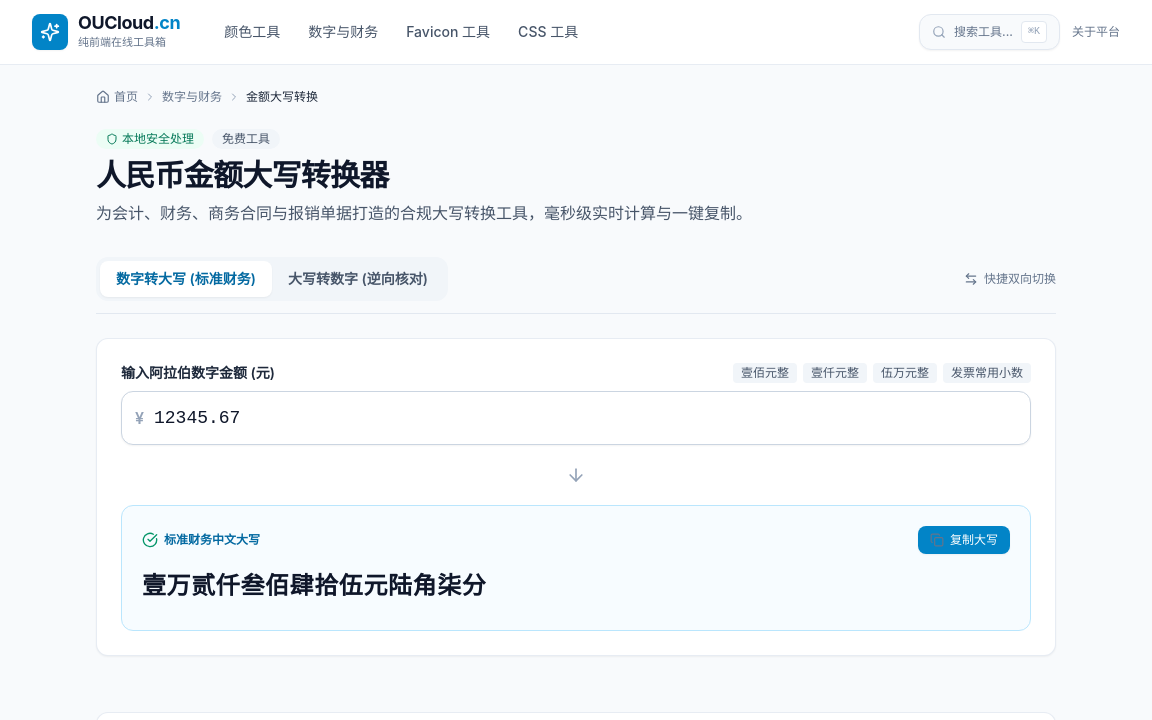
Test case: 全站路由与端到端交互 › 人民币金额工具支持切换至逆向转换并准确解析大写金额
Click the button "大写转数字 (逆向核对)" at (358, 279), box [272,261,444,297]
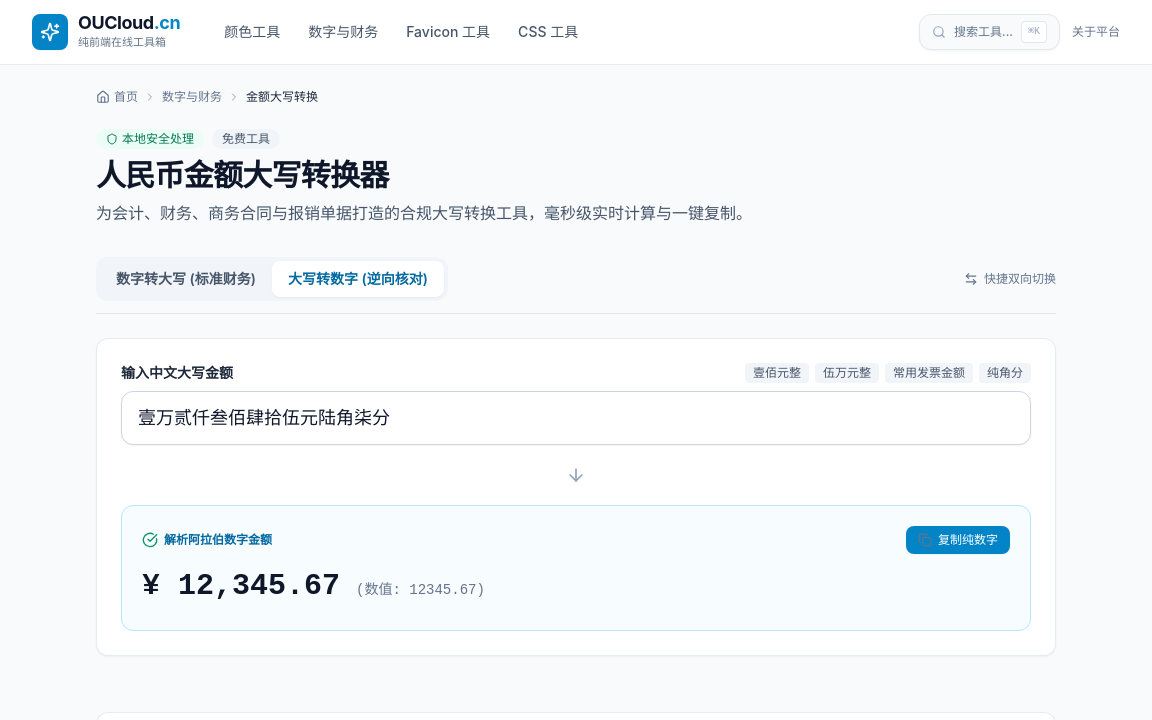
Replace the text in the field labelled "输入中文大写金额" with "伍万元整" at (576, 418), box [121,391,1031,445]
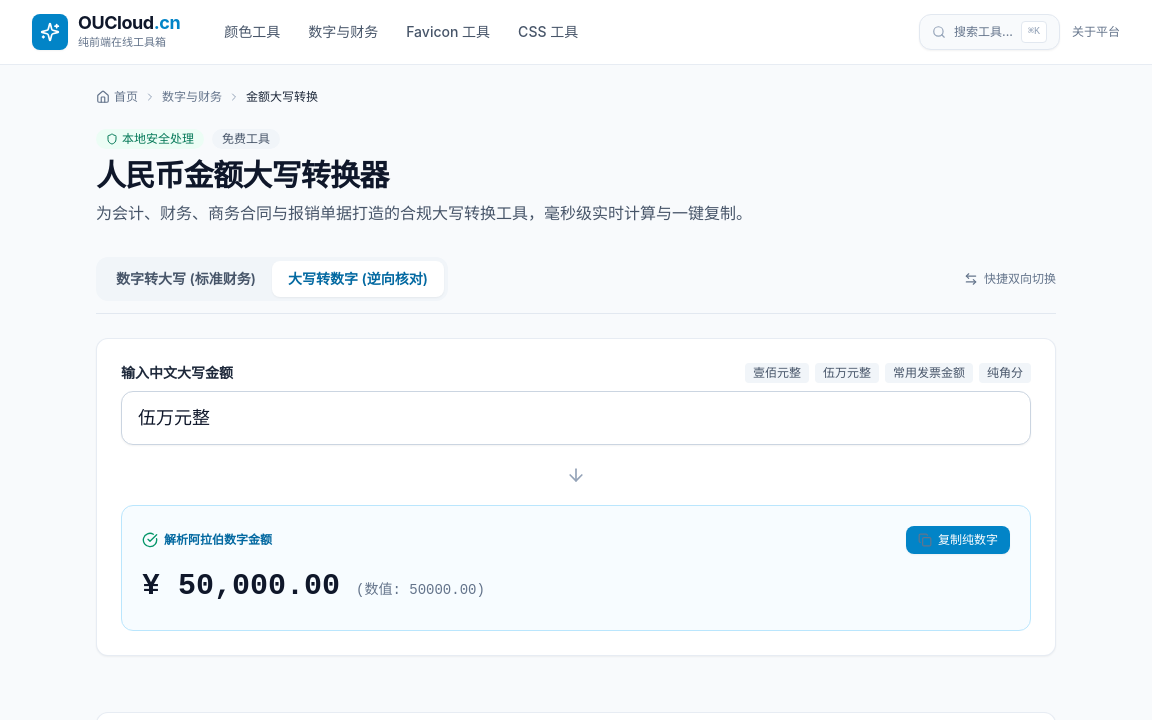
Expected: the text "¥ 50,000.00" is shown, [142,568,340,604]
Expected: the text "(数值: 50000.00)" is shown, [356,580,485,600]
